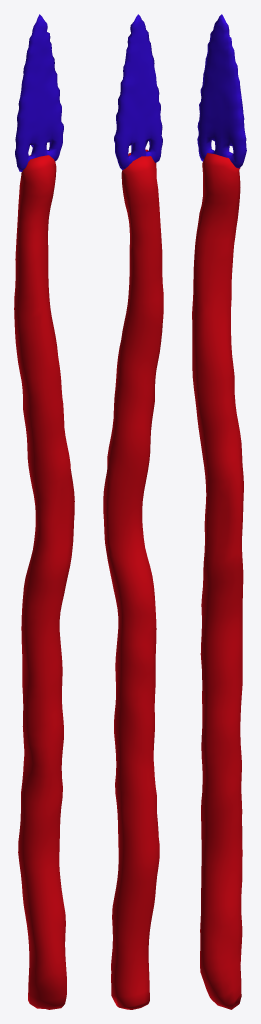
File: spear_low.fbx
3 views of the same model, side by side, from view 1: azimuth 30°, elevation 25°; view 2: azimuth 210°, elevation 25°; view 3: azimuth 330°, elevation 25° (orthographic).
Visible parts, largest first — view 1: spearhandle_low_rm; view 2: spearhandle_low_rm; view 3: spearhandle_low_rm.
Part boxes in pixels (box(x1,y1,x2,y2)): spearhandle_low_rm: box(14, 14, 74, 1009); spearhandle_low_rm: box(103, 14, 163, 1009); spearhandle_low_rm: box(192, 14, 246, 1009).
Size of the model in its own units: 71.28 by 1320 by 63.56.
